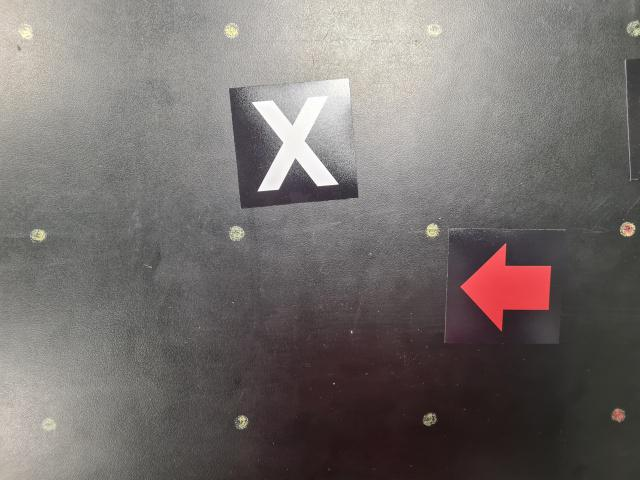left: (445, 229, 560, 346)
x: (228, 78, 359, 211)
